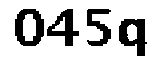0: (14, 4, 44, 50)
4: (46, 5, 82, 48)
5: (85, 3, 115, 48)
q: (118, 16, 151, 59)
